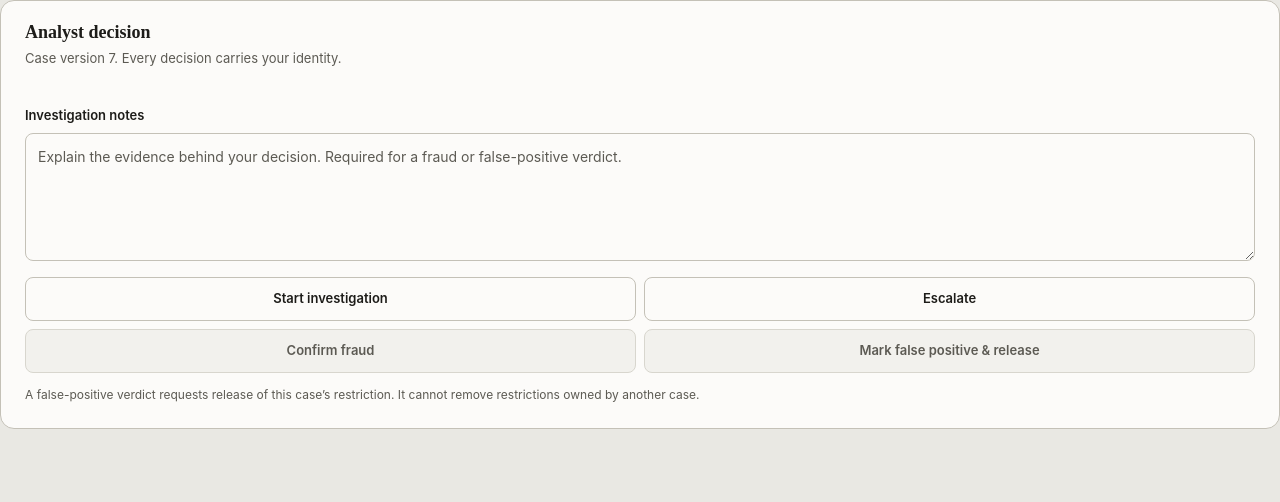
Test case: shows a version conflict and does not silently resubmit an analyst verdict
The width and height of the screenshot is (1280, 502).
Click the button "Start investigation": (330, 299) x1=25 y1=277 x2=636 y2=321
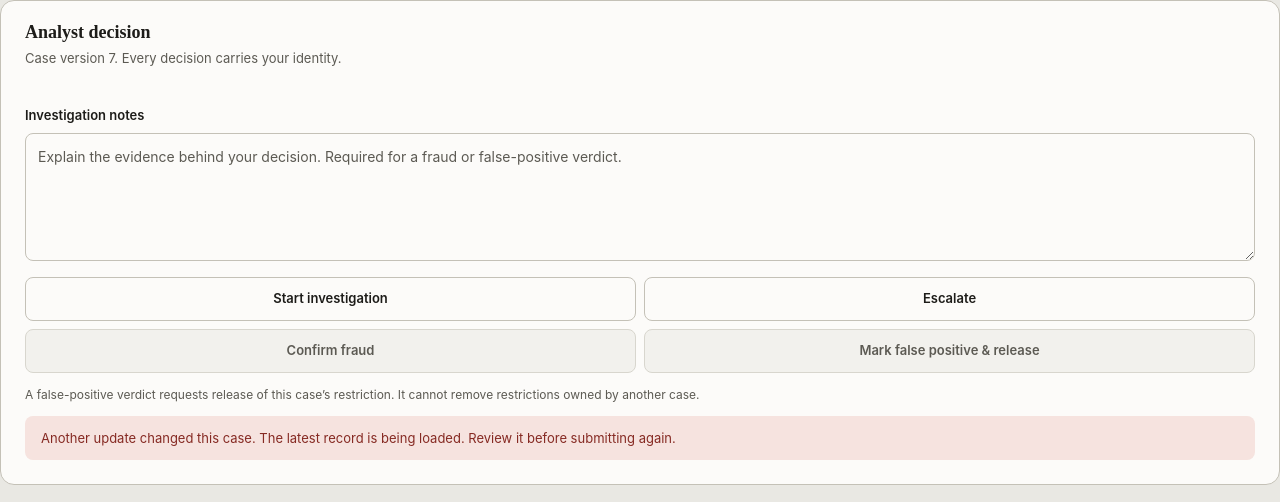
Result: the message is shown at x1=25 y1=416 x2=1255 y2=460
Result: the message shows "Another update changed this case" at x1=41 y1=430 x2=676 y2=446
